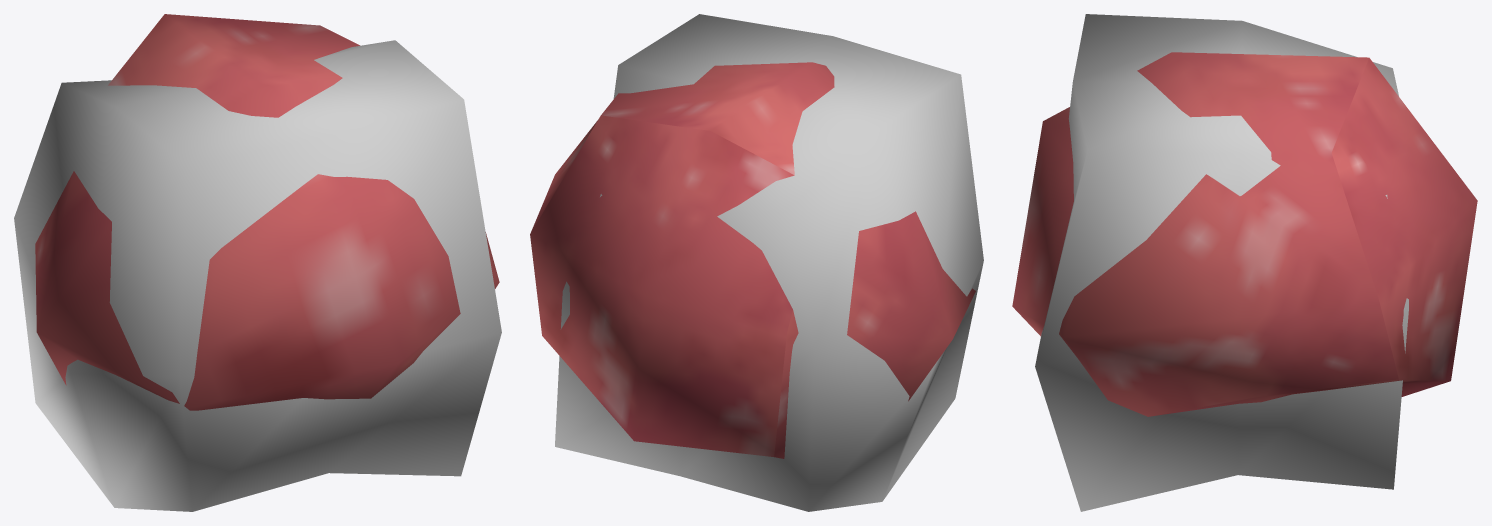
The model's file is Pieces.fbx.
3 renders of one model, left to right at view 1: azimuth 30°, elevation 25°; view 2: azimuth 150°, elevation 25°; view 3: azimuth 270°, elevation 25°, orthographic. The views are drawn at different scales.
Visible parts, largest first — view 1: PieceOfJam, PieceOfFarsh; view 2: PieceOfFarsh, PieceOfJam; view 3: PieceOfFarsh, PieceOfJam.
Boxes of the visible parts, bbox=[...] form: PieceOfJam: bbox=[14, 40, 501, 511]; PieceOfFarsh: bbox=[35, 14, 499, 410]; PieceOfFarsh: bbox=[530, 62, 975, 458]; PieceOfJam: bbox=[555, 14, 983, 511]; PieceOfFarsh: bbox=[1012, 52, 1477, 416]; PieceOfJam: bbox=[1035, 14, 1408, 511].
Bounding box in the file's own units: 16.63 × 15.56 × 16.02.
